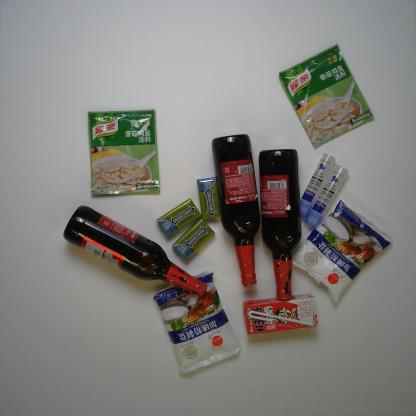Alcohol: (62, 203, 209, 298), (211, 132, 261, 287), (256, 148, 303, 302)
Gum: (171, 217, 216, 262), (156, 197, 202, 239), (195, 176, 222, 222)
Milk: (240, 291, 319, 337)
Seasoner: (290, 197, 395, 307), (277, 42, 375, 150), (152, 270, 243, 378), (86, 108, 163, 198)
Stationery: (302, 164, 349, 230), (298, 152, 337, 220)
